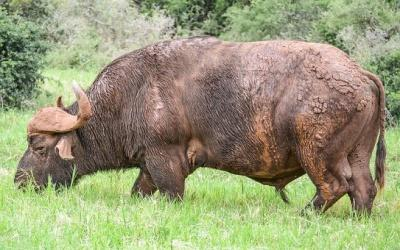buffalo: (13, 40, 388, 214)
